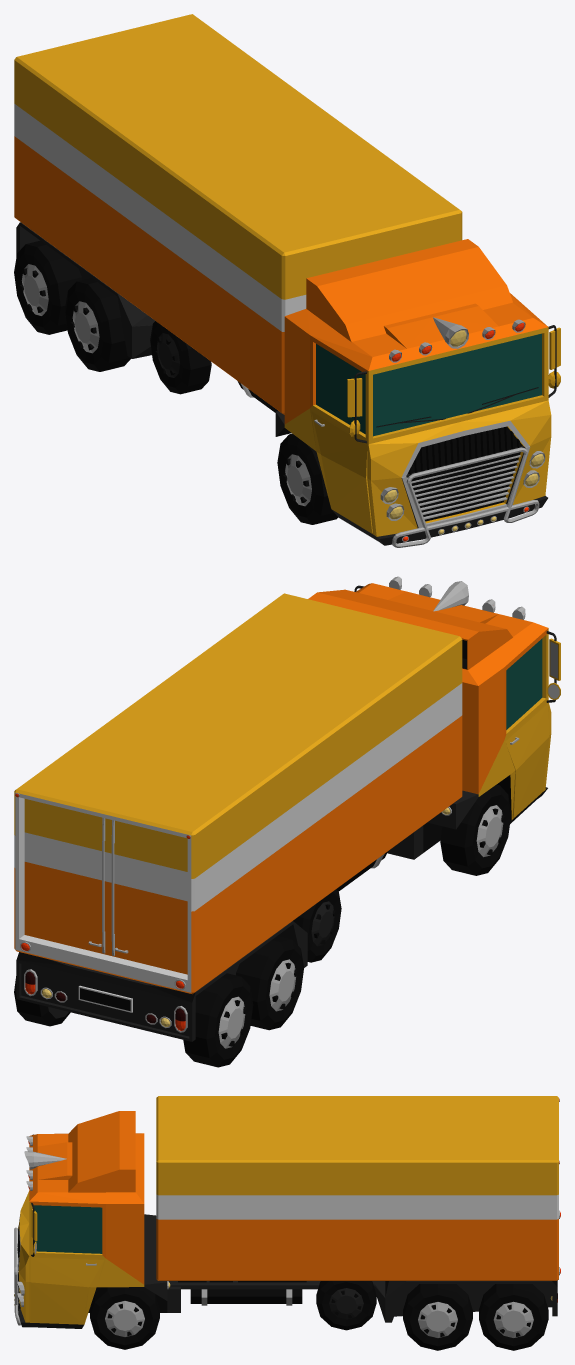
Rendered from CargoTruck.FBX.
The picture shows the model from 3 angles, top to bottom: view 1: azimuth 30°, elevation 25°; view 2: azimuth 150°, elevation 25°; view 3: azimuth 270°, elevation 25°; orthographic projection. The views are drawn at different scales.
Parts seen in each view (by area): view 1: trailer, CargoTruck, interieur, wheel_b1_r, wheel_b2_r, grill, wheel_f_r, spareWheels, bumper_f, mirrors, lights, headLights; view 2: trailer, CargoTruck, wheel_b2_r, wheel_b1_r, wheel_f_r, spareWheels, lights, wheel_b2_l, mirrors; view 3: trailer, CargoTruck, wheel_b1_l, wheel_b2_l, wheel_f_l, spareWheels, lights, bumper_f.
Boxes of the visible parts, x1=… form: trailer: x1=14, y1=14, x2=462, y2=414; CargoTruck: x1=16, y1=222, x2=551, y2=545; interieur: x1=316, y1=334, x2=541, y2=432; wheel_b1_r: x1=65, y1=278, x2=130, y2=371; wheel_b2_r: x1=14, y1=240, x2=82, y2=334; grill: x1=407, y1=426, x2=520, y2=519; wheel_f_r: x1=277, y1=433, x2=338, y2=524; spareWheels: x1=150, y1=321, x2=211, y2=394; bumper_f: x1=392, y1=447, x2=539, y2=547; mirrors: x1=347, y1=325, x2=560, y2=443; lights: x1=380, y1=317, x2=545, y2=541; headLights: x1=384, y1=330, x2=543, y2=534; trailer: x1=14, y1=593, x2=462, y2=994; CargoTruck: x1=16, y1=583, x2=551, y2=1041; wheel_b2_r: x1=183, y1=973, x2=253, y2=1067; wheel_b1_r: x1=236, y1=936, x2=303, y2=1030; wheel_f_r: x1=440, y1=784, x2=511, y2=875; spareWheels: x1=293, y1=889, x2=341, y2=962; lights: x1=24, y1=576, x2=525, y2=1032; wheel_b2_l: x1=14, y1=976, x2=70, y2=1026; mirrors: x1=354, y1=585, x2=560, y2=702; trailer: x1=156, y1=1096, x2=558, y2=1280; CargoTruck: x1=17, y1=1111, x2=557, y2=1328; wheel_b1_l: x1=403, y1=1284, x2=472, y2=1350; wheel_b2_l: x1=479, y1=1284, x2=548, y2=1350; wheel_f_l: x1=90, y1=1287, x2=159, y2=1349; spareWheels: x1=316, y1=1281, x2=376, y2=1330; lights: x1=17, y1=1136, x2=168, y2=1306; bumper_f: x1=14, y1=1227, x2=20, y2=1325.
Bounding box in the file's own units: 33.06 × 37.37 × 98.69.
